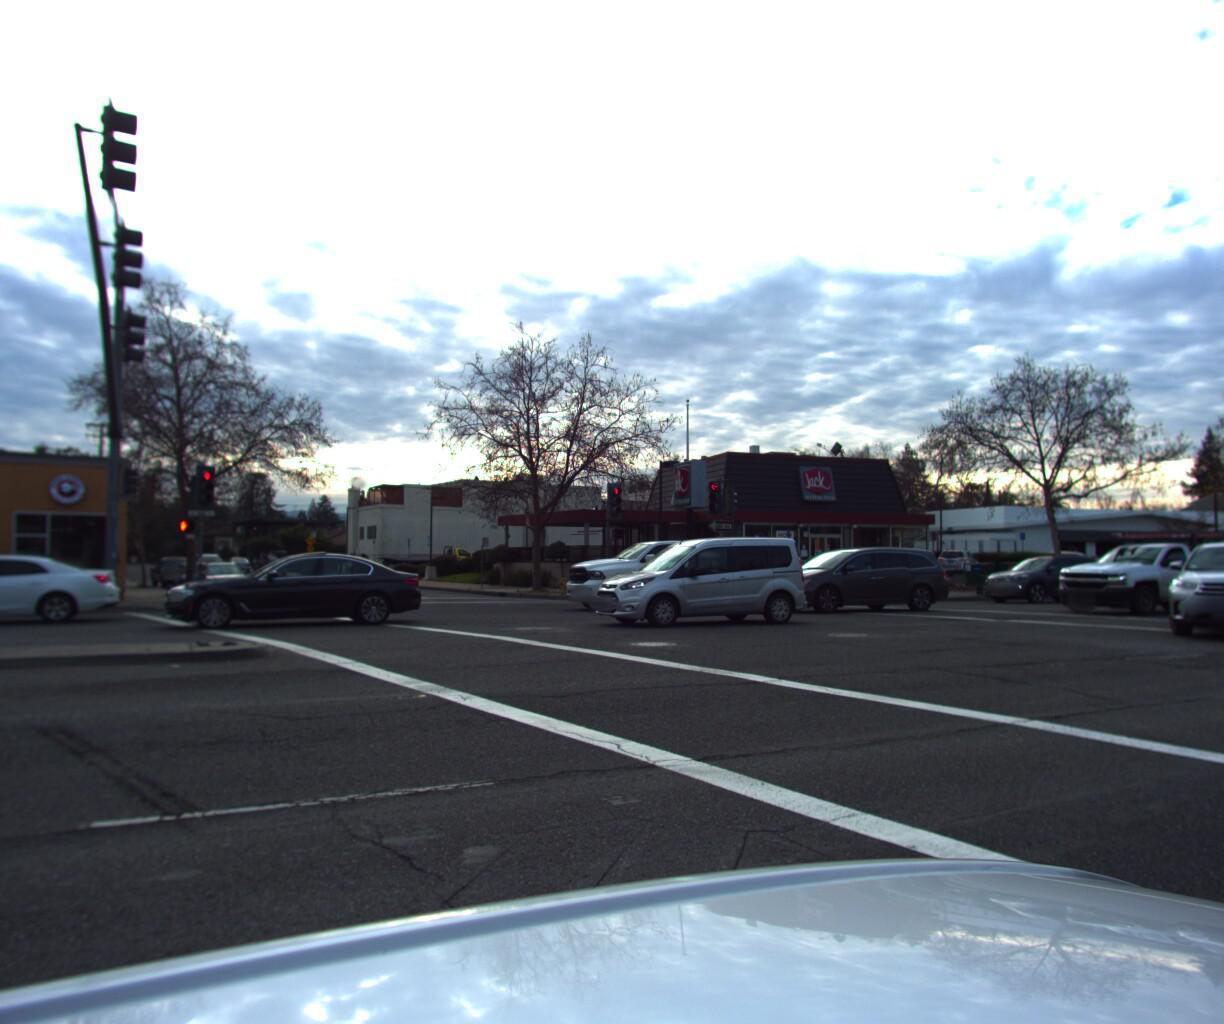car: (151, 539, 429, 633), (582, 533, 811, 630), (553, 528, 777, 613), (1041, 518, 1224, 616), (741, 539, 948, 613), (0, 553, 123, 630), (1158, 537, 1224, 650), (975, 553, 1116, 604), (188, 559, 257, 601), (1031, 546, 1102, 579), (166, 558, 226, 595), (150, 557, 202, 590), (246, 551, 294, 576), (219, 552, 255, 573)
truck: (378, 542, 489, 577)
